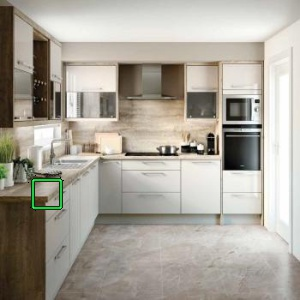square: (29, 176, 66, 211)
